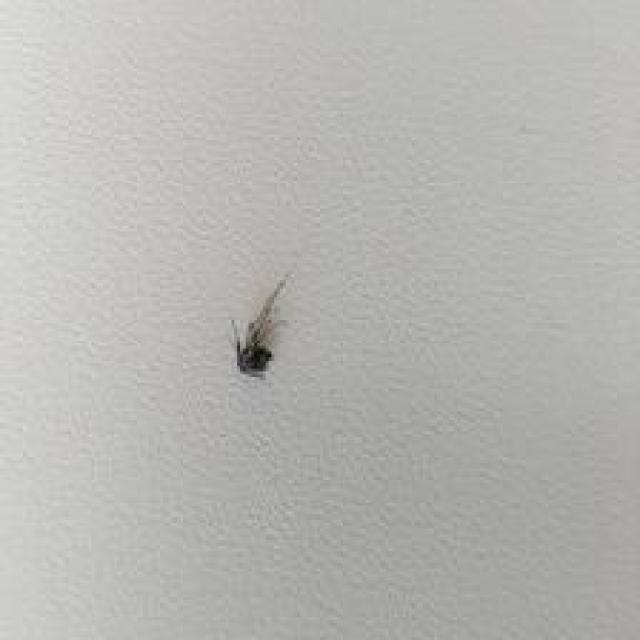Aedes albopictus: (228, 274, 288, 377)
